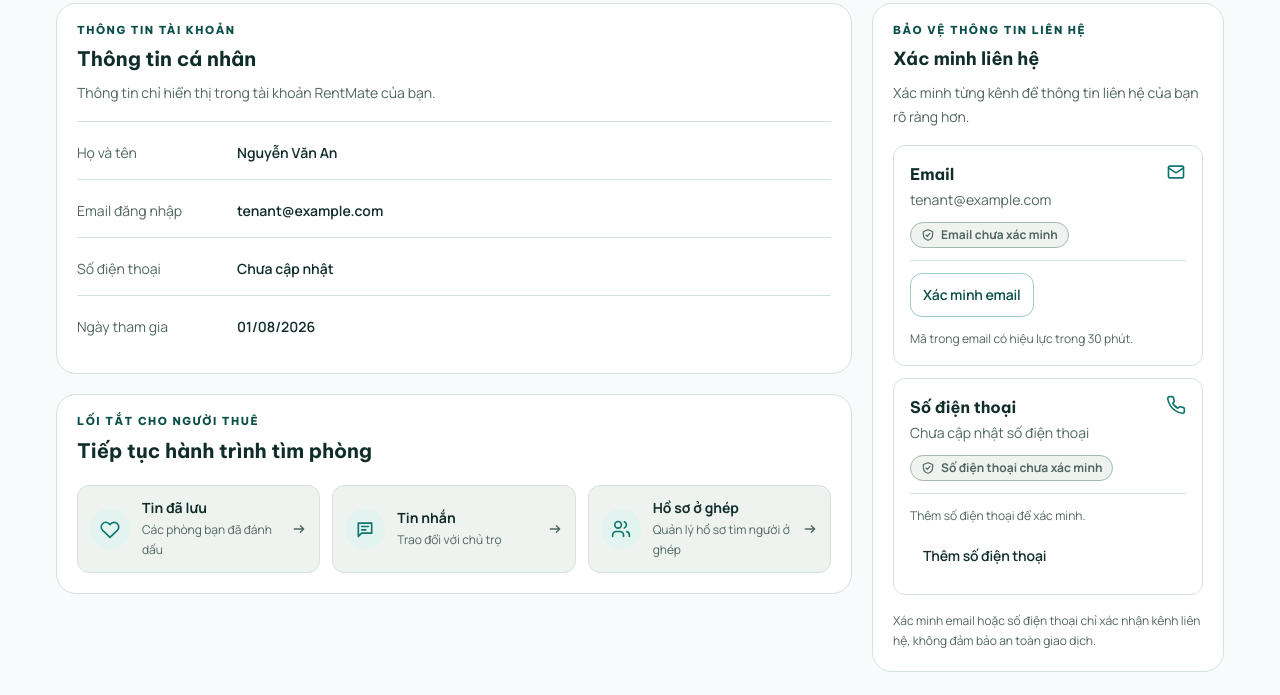
Test: TenantProfile › guides a tenant without a phone to edit the profile before verification
This screenshot has width=1280, height=695.
(page scrolled)
Expected: the text "Thêm số điện thoại để xác minh." is shown, [910,506,1086,526]
Click the button "Thêm số điện thoại" at (985, 556), box [910,534,1059,578]
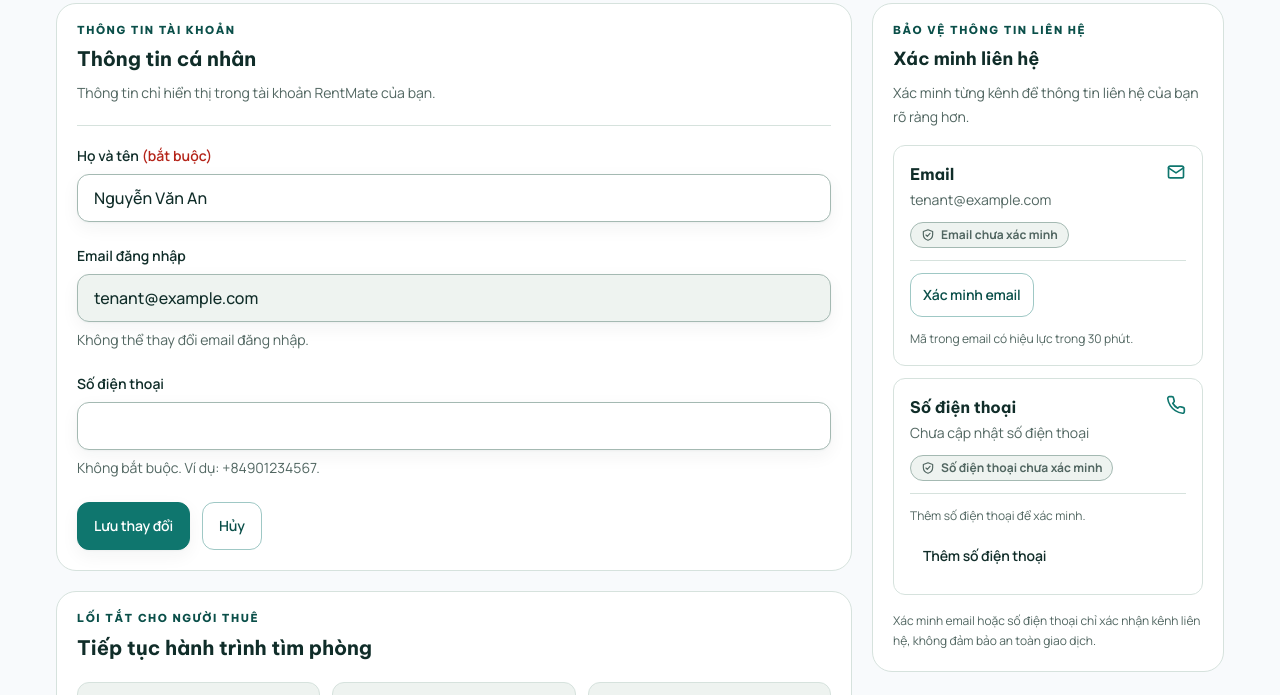
Expected: the field labelled "Số điện thoại" is shown, [77,402,831,450]
